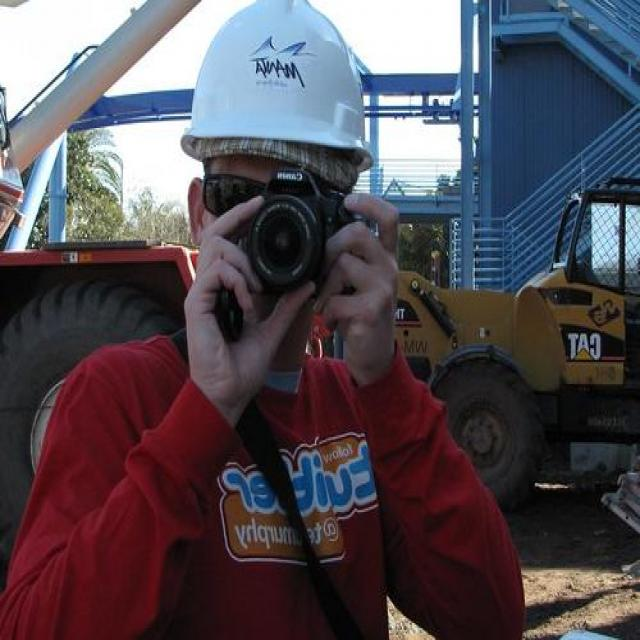Safety-Helmet: (176, 0, 382, 174)
